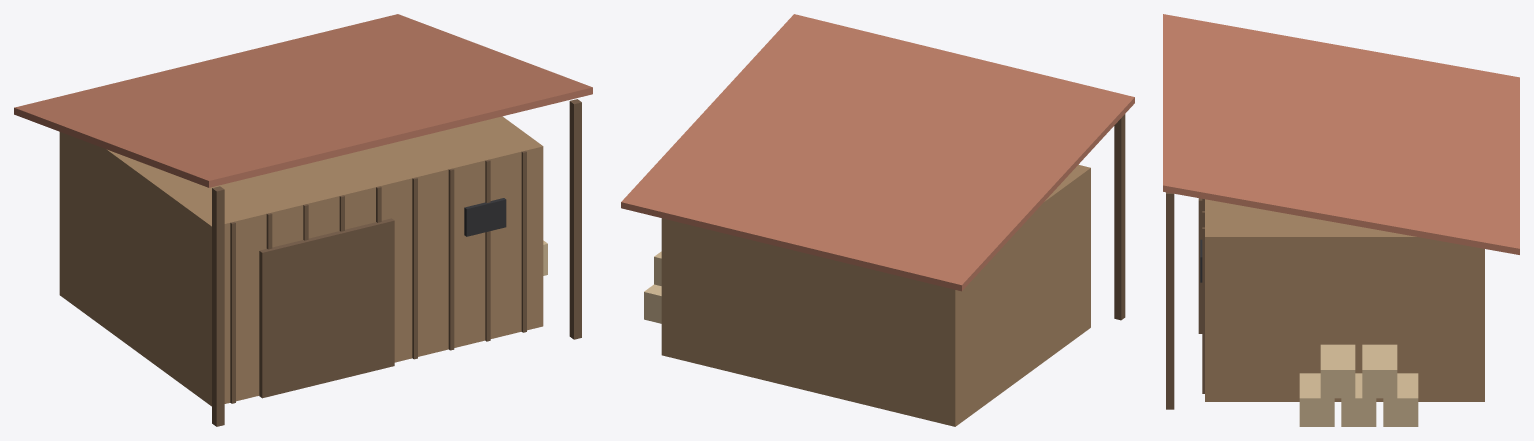
Rendered from naya.glb.
The picture shows the model from 3 angles, left to right: view 1: azimuth 30°, elevation 25°; view 2: azimuth 150°, elevation 25°; view 3: azimuth 270°, elevation 25°; orthographic projection. The views are drawn at different scales.
Parts seen in each view (by area): view 1: naya; view 2: naya; view 3: naya.
Part boxes in pixels (left/top/right/bottom): naya: left=14, top=14, right=592, bottom=426; naya: left=621, top=14, right=1134, bottom=426; naya: left=1163, top=14, right=1519, bottom=426.
Size of the model in its own units: 6.25 by 3.6 by 5.1.
